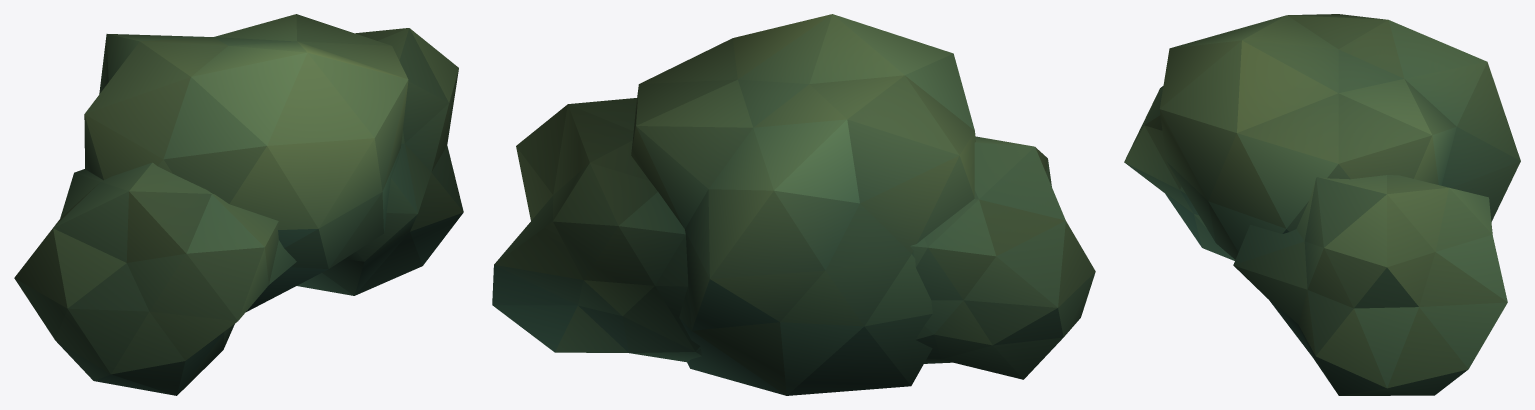
The model's file is bush_a.glb.
3 renders of one model, left to right at view 1: azimuth 30°, elevation 25°; view 2: azimuth 150°, elevation 25°; view 3: azimuth 270°, elevation 25°, orthographic. The views are drawn at different scales.
Visible parts, largest first — view 1: bush_a; view 2: bush_a; view 3: bush_a.
Boxes of the visible parts, x1,y1,x2,y2 form: bush_a: (14,14,463,395); bush_a: (492,14,1095,395); bush_a: (1124,14,1520,395).
Size of the model in its own units: 1.97 by 1.14 by 1.47.
